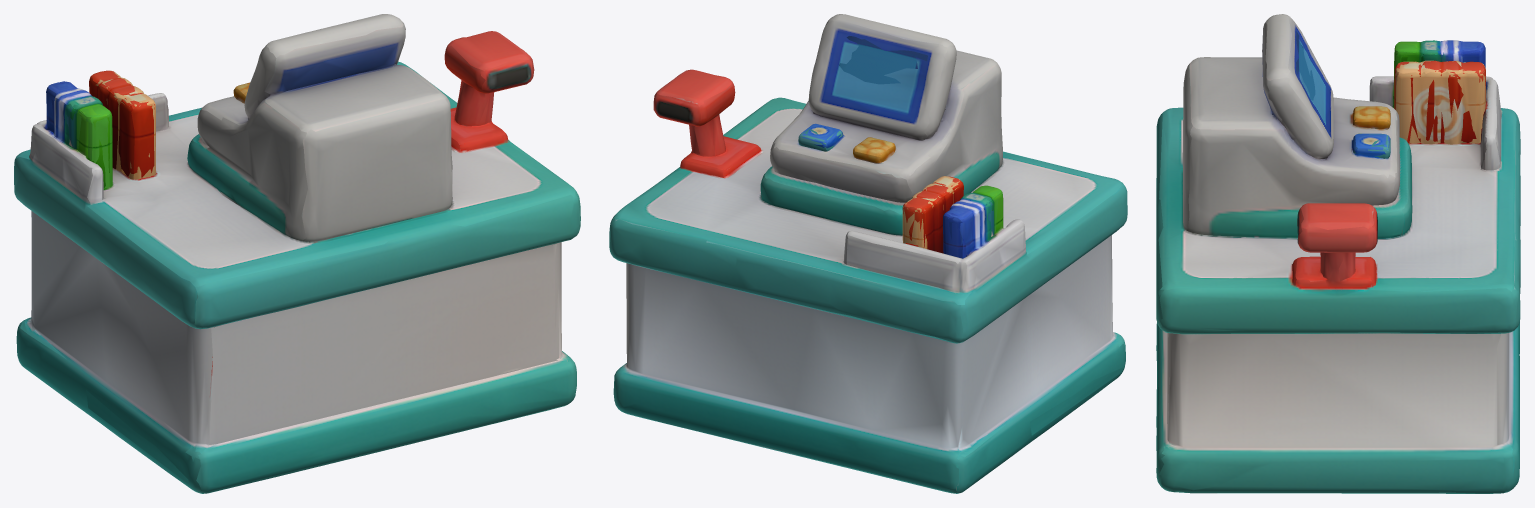
The model's file is Prop_ShopCounter_AI.glb.
The picture shows the model from 3 angles, left to right: view 1: azimuth 30°, elevation 25°; view 2: azimuth 150°, elevation 25°; view 3: azimuth 270°, elevation 25°; orthographic projection. The views are drawn at different scales.
Parts seen in each view (by area): view 1: Prop_ShopCounter_AI; view 2: Prop_ShopCounter_AI; view 3: Prop_ShopCounter_AI.
Part boxes in pixels (left/top/right/bottom): Prop_ShopCounter_AI: left=14, top=14, right=580, bottom=493; Prop_ShopCounter_AI: left=609, top=14, right=1127, bottom=493; Prop_ShopCounter_AI: left=1156, top=14, right=1520, bottom=493.
Size of the model in its own units: 1.5 by 1.3 by 1.17.
Materials: 2 (2 with a texture image).
